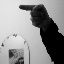g: (17, 3, 51, 29)
